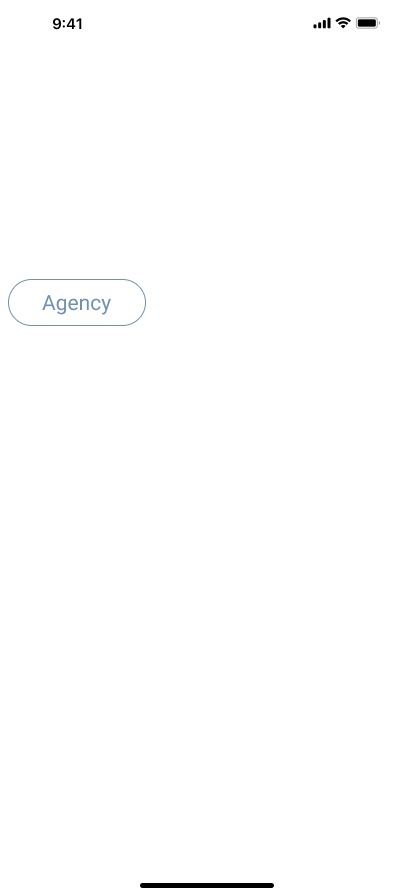Buttons: (8, 279, 154, 326)
Home Indicator: (0, 862, 414, 896)
Status Bar: (0, 0, 414, 44)
